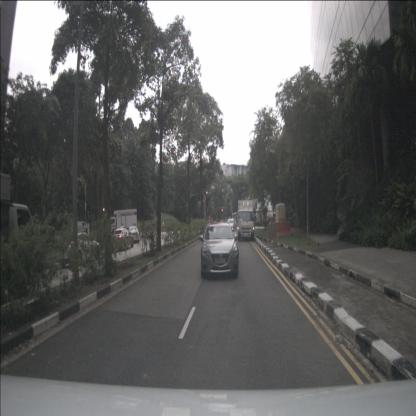barrier: (275, 221, 292, 237)
